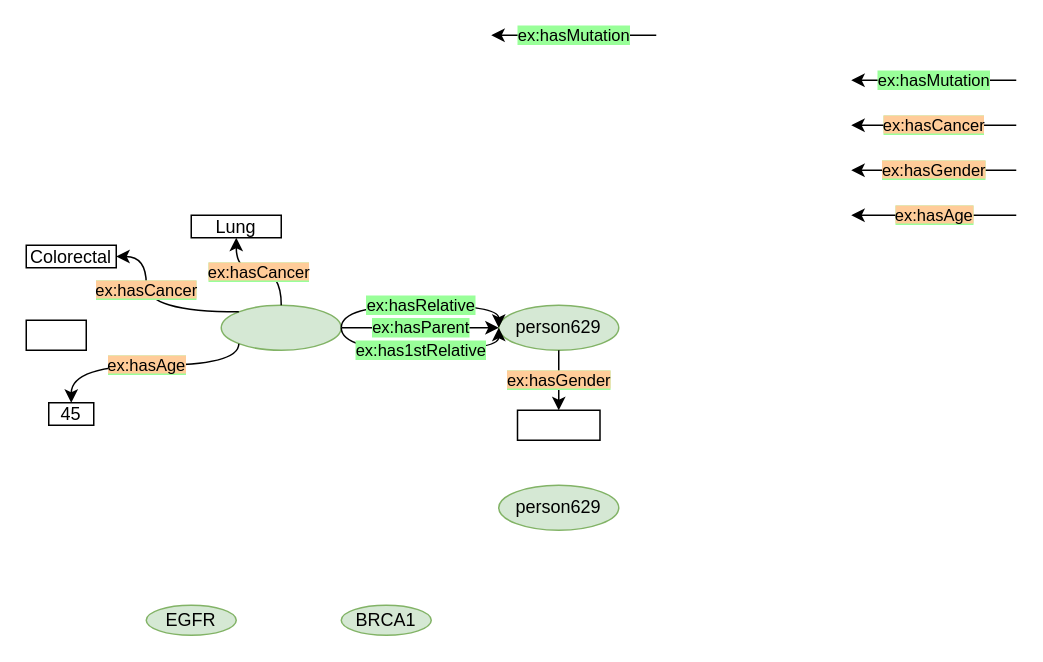
This 1043x662 diagram has some shape labels left out. The shapes that lost their labels are listed below. From the top down, each one's centre as x and y in pixels, then its label:
At (55,334): "Male".
At (280,327): "person142".
At (558,424): "Female".
